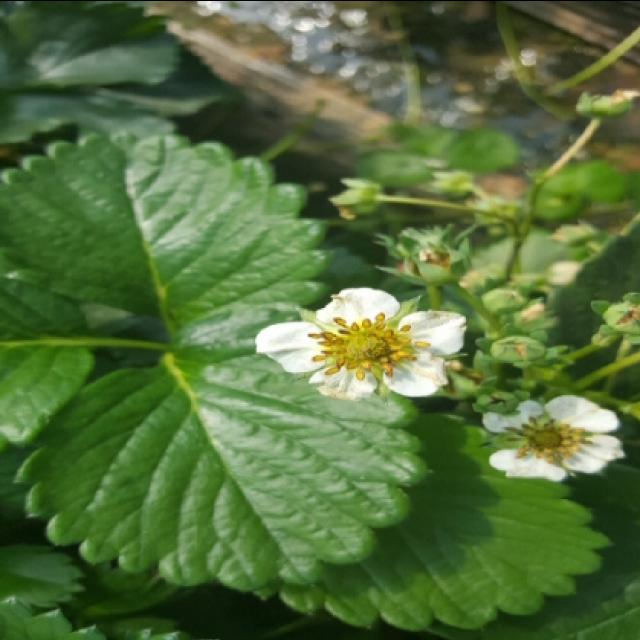Blossom Blight: (303, 308, 435, 382)
